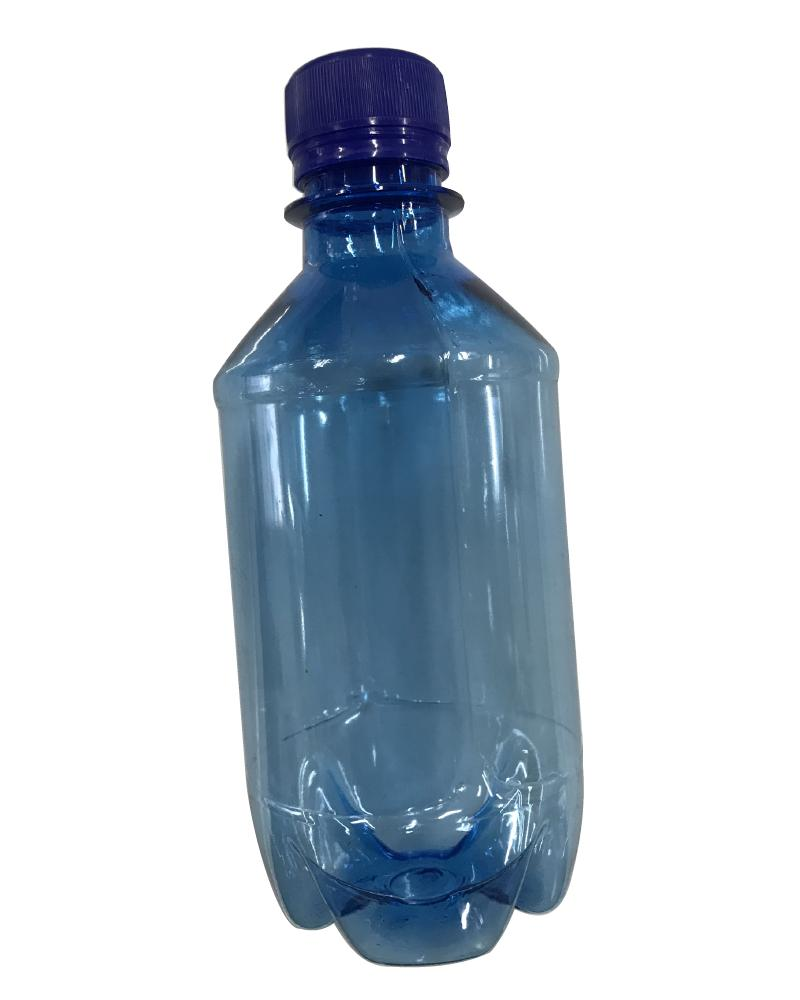bottle: (15, 6, 577, 976)
